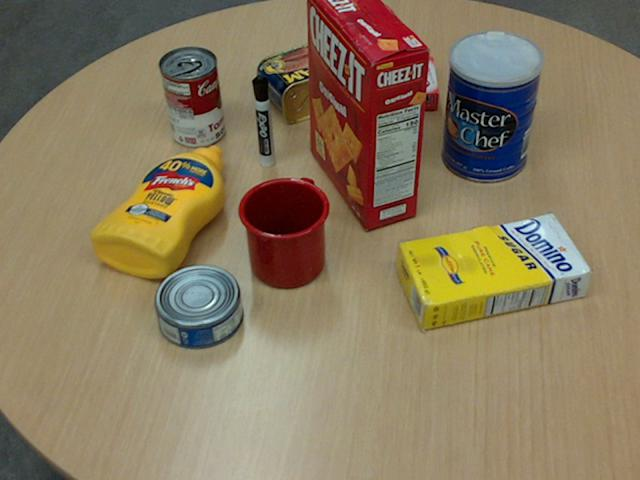cracker_box: (307, 0, 428, 227)
gelatin_box: (377, 55, 437, 110)
large_marker: (251, 74, 272, 167)
master_chef_can: (441, 31, 542, 183)
mug: (236, 177, 328, 288)
mustard_bottle: (89, 145, 224, 277)
potted_meat_can: (256, 42, 354, 122)
sugar_box: (394, 213, 591, 332)
tomato_soup_can: (159, 44, 223, 146)
tuna_fish_can: (153, 264, 242, 348)
